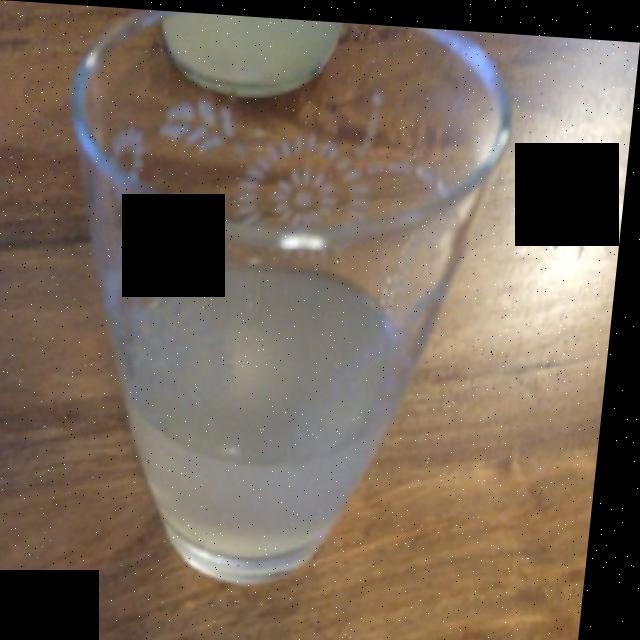drink: (122, 269, 428, 559)
